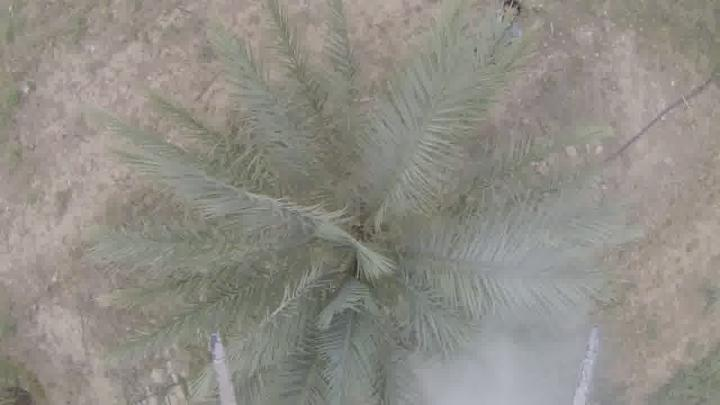Date-Palm-Crown: (178, 120, 510, 364)
